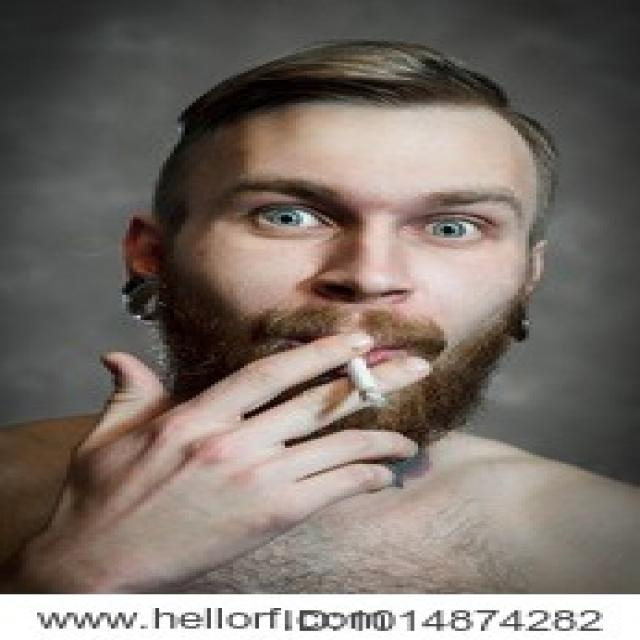smoke: (337, 350, 396, 405)
